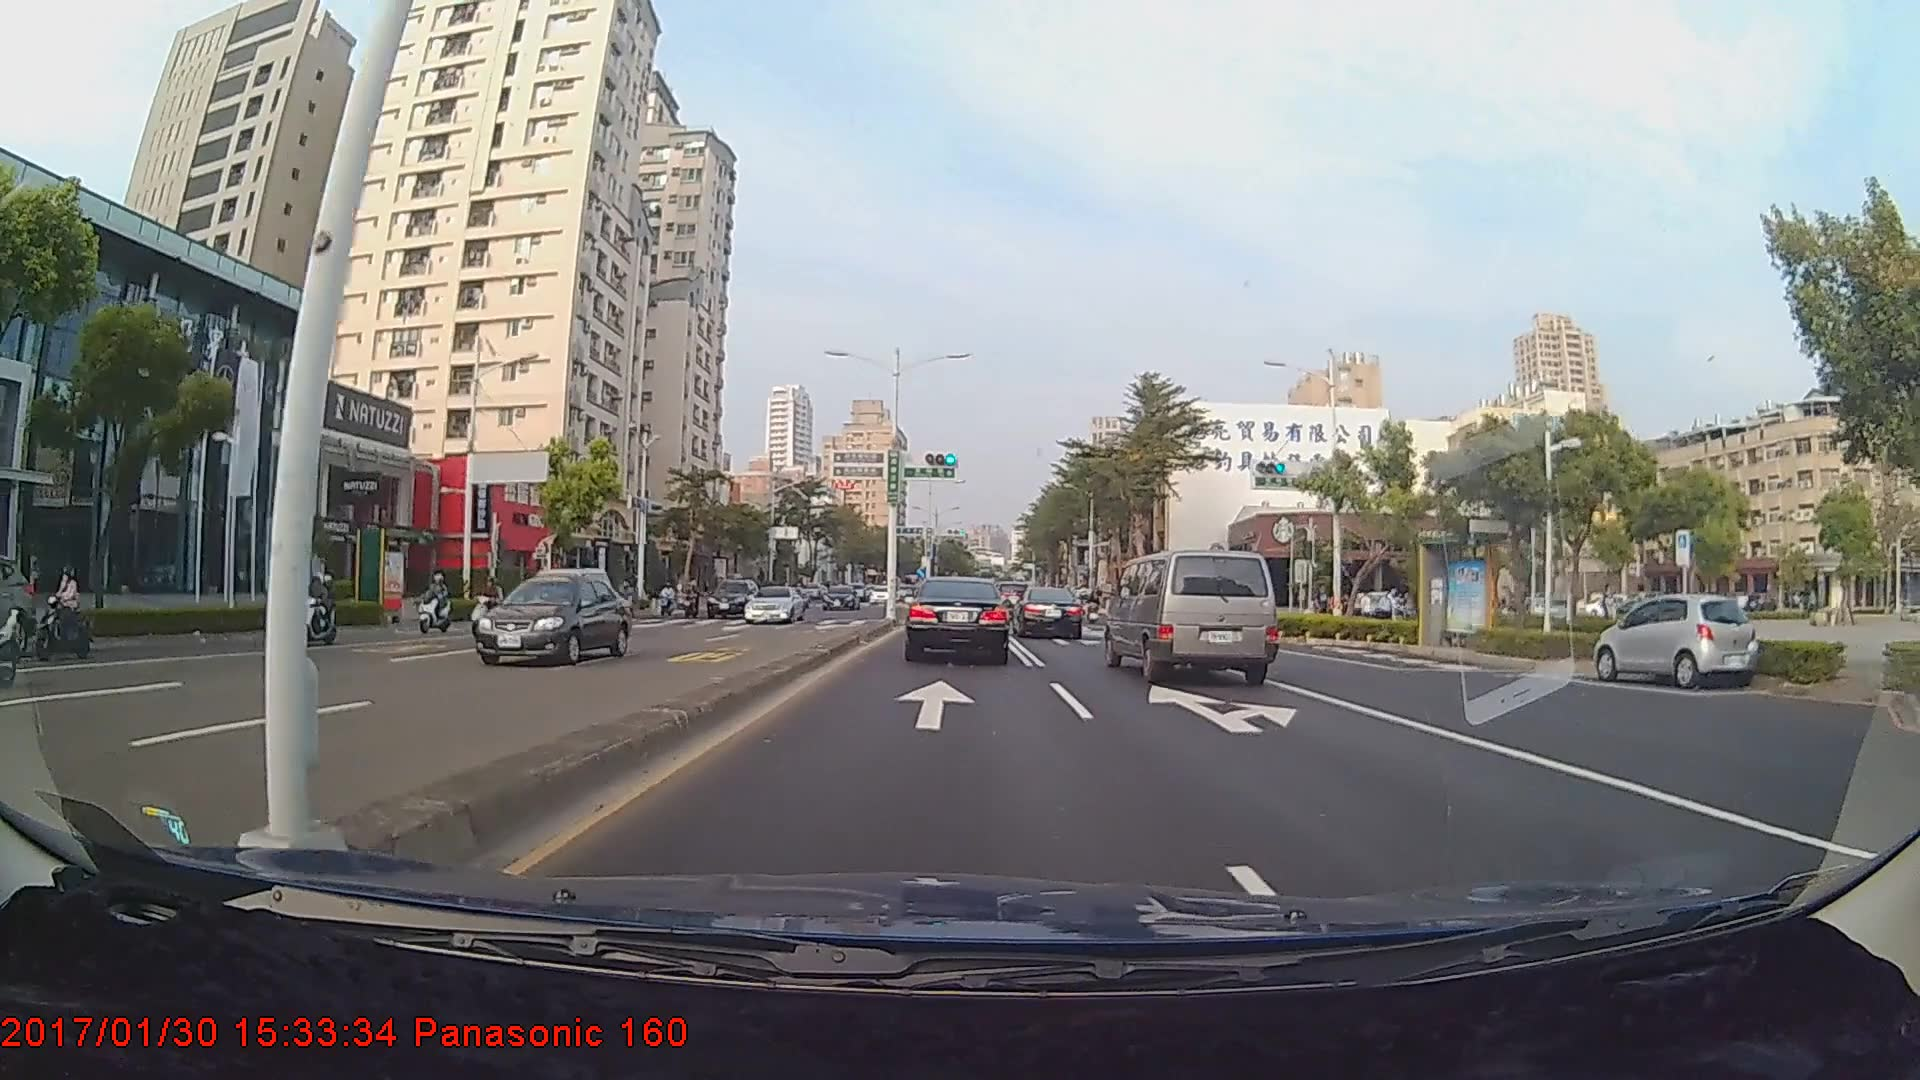rider: (53, 572, 121, 666), (1, 555, 34, 697), (415, 570, 458, 638), (469, 575, 509, 641)
vehicle: (1107, 544, 1278, 687), (1594, 590, 1755, 689), (475, 576, 635, 667), (904, 575, 1009, 662), (500, 568, 611, 630), (1010, 586, 1084, 640), (741, 583, 804, 623), (705, 577, 759, 618), (821, 583, 861, 612)
